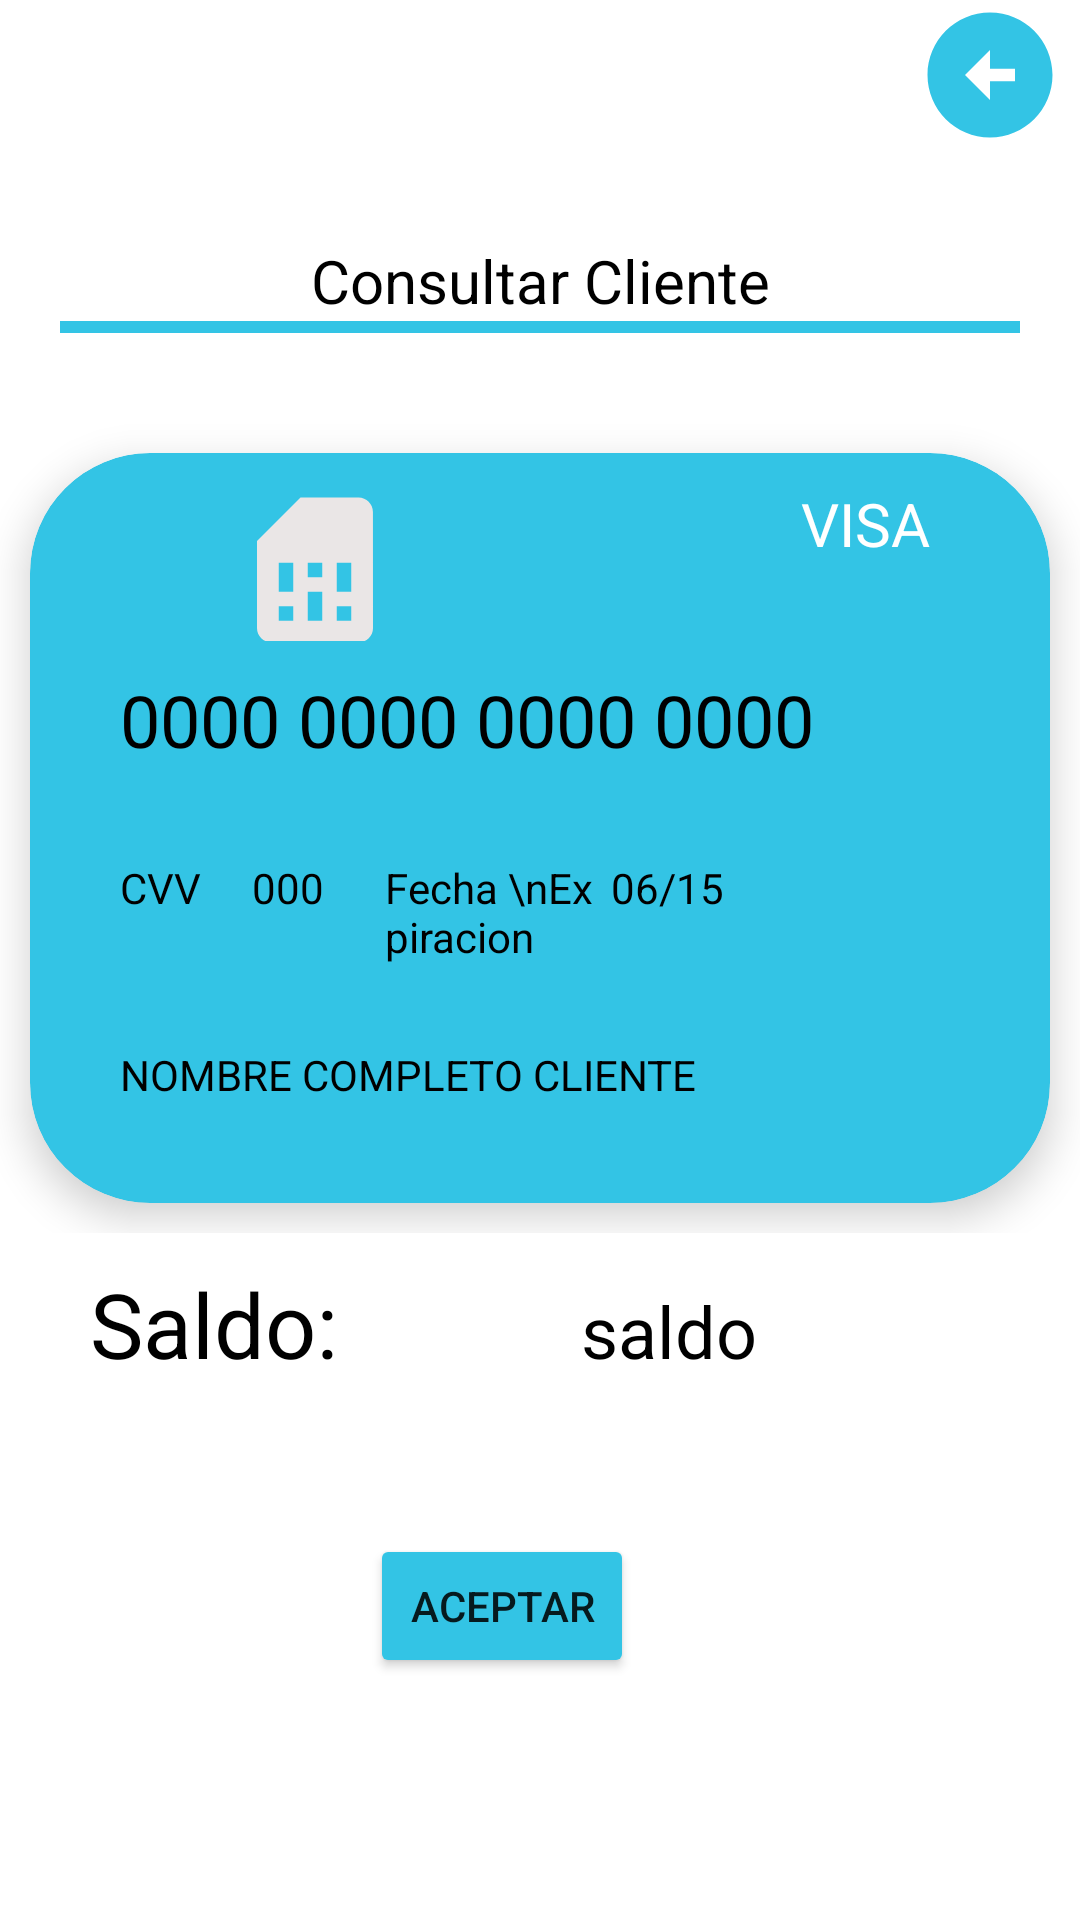

Screen size 1080w x 1920h. Icon name, then its box in pixels as (x1, y1, x2, y2):
arrow circle left: (927, 12, 1053, 138)
